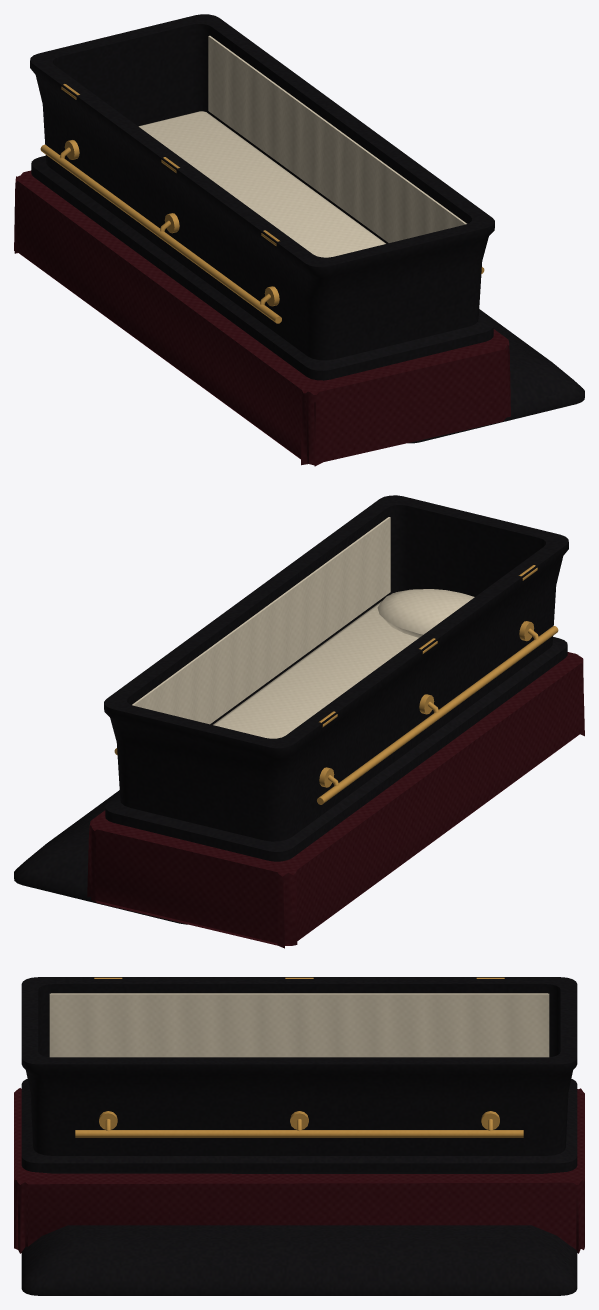
The model's file is casket.glb.
3 renders of one model, top to bottom at view 1: azimuth 30°, elevation 25°; view 2: azimuth 150°, elevation 25°; view 3: azimuth 270°, elevation 25°, orthographic. The views are drawn at different scales.
Visible parts, largest first — view 1: Body, LidVisual; view 2: Body, LidVisual; view 3: Body, LidVisual.
Boxes of the visible parts, x1,y1,x2,y2 form: Body: (14, 14, 510, 466); LidVisual: (408, 309, 584, 443); Body: (87, 495, 584, 948); LidVisual: (14, 790, 187, 924); Body: (14, 977, 584, 1253); LidVisual: (21, 1225, 577, 1295).
Bounding box in the file's own units: 1.25 × 0.8573 × 2.24.
Materials: 4 (4 with a texture image).
